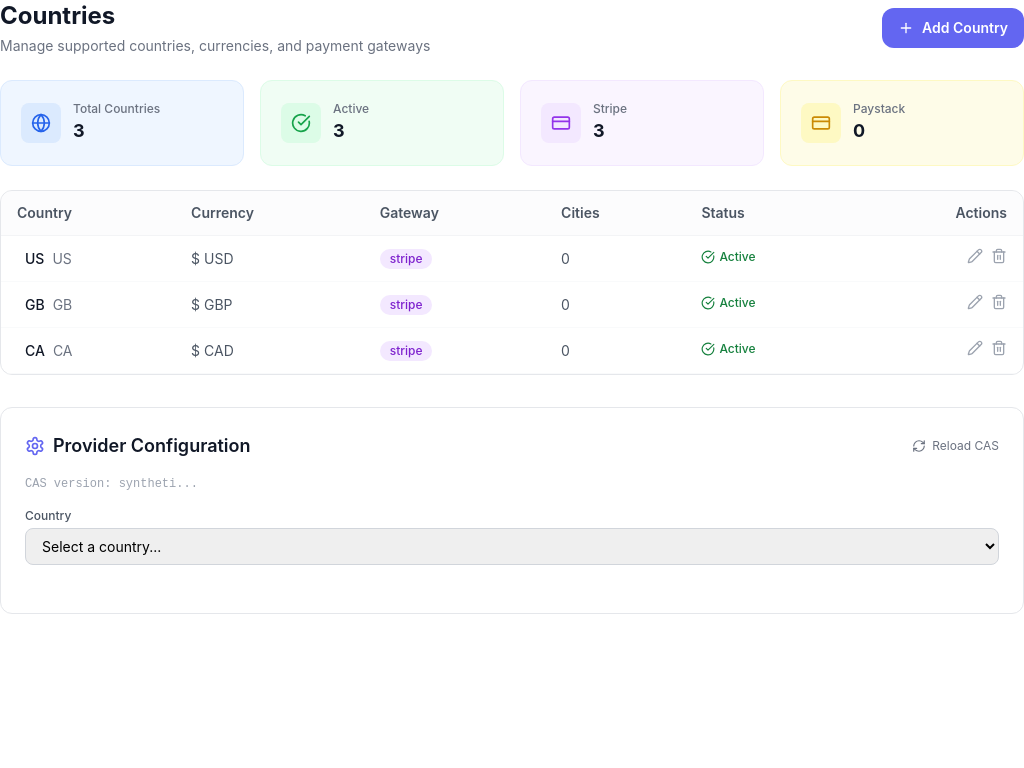
Test: #762 mounted Countries Stripe reference flow › omits untouched absent Stripe refs while saving valid other-provider refs
Select "US — US" in the dropdown named "Provider country" at coordinates (512, 546), box [25,528,999,565]
(page scrolled)
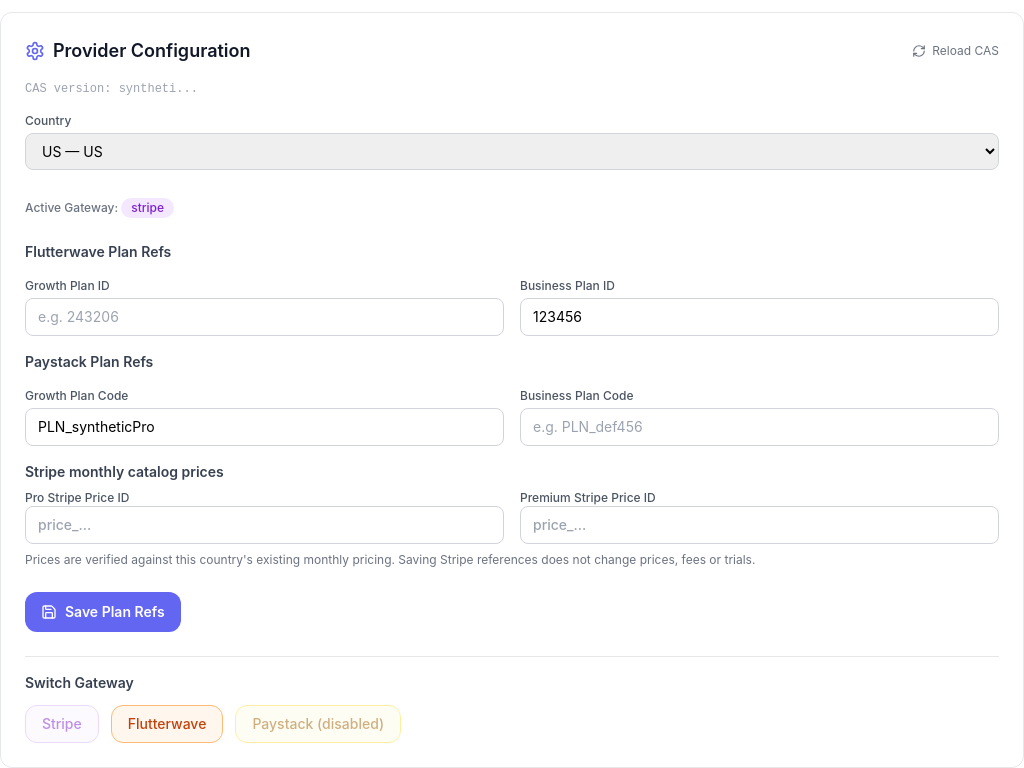
expect the button "Save Plan Refs" is enabled: met
expect the field labelled "Pro Stripe Price ID" is empty: met, box [25,506,504,544]
expect the field labelled "Premium Stripe Price ID" is empty: met, box [520,506,999,544]
Click the button "Save Plan Refs" at coordinates (103, 612), box [25,592,181,632]
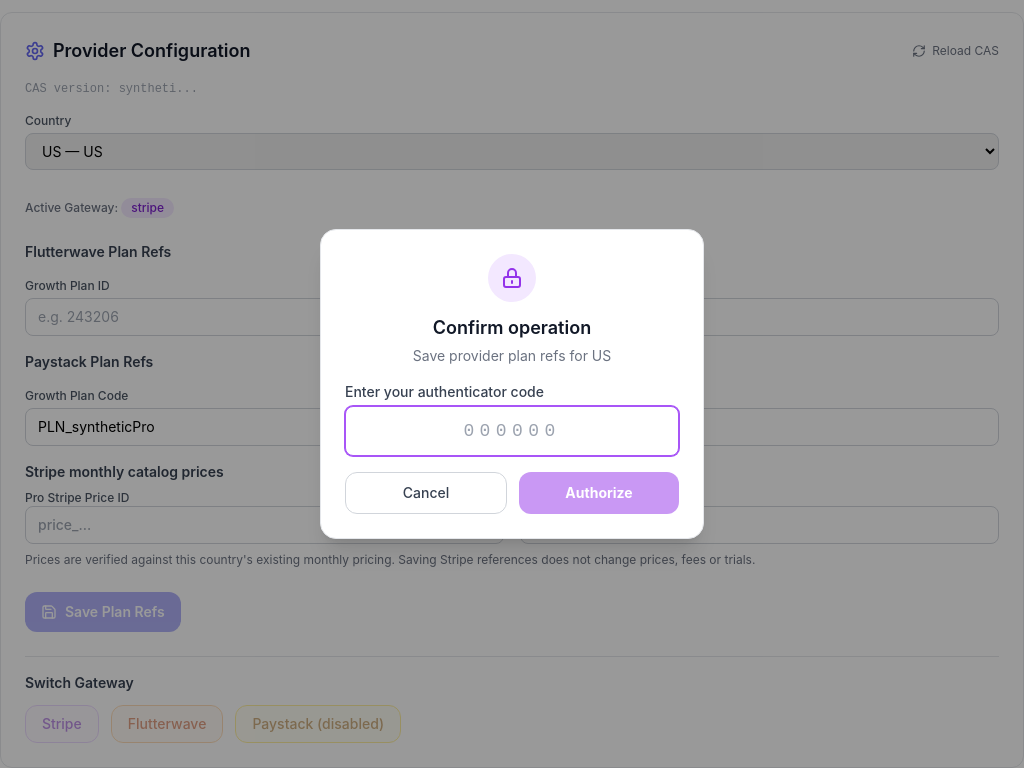
expect the heading "Confirm operation" is shown: met, box [433,317,591,338]
Type "123456" into the field with placeholder "000000" at coordinates (512, 431), box [345,406,679,456]
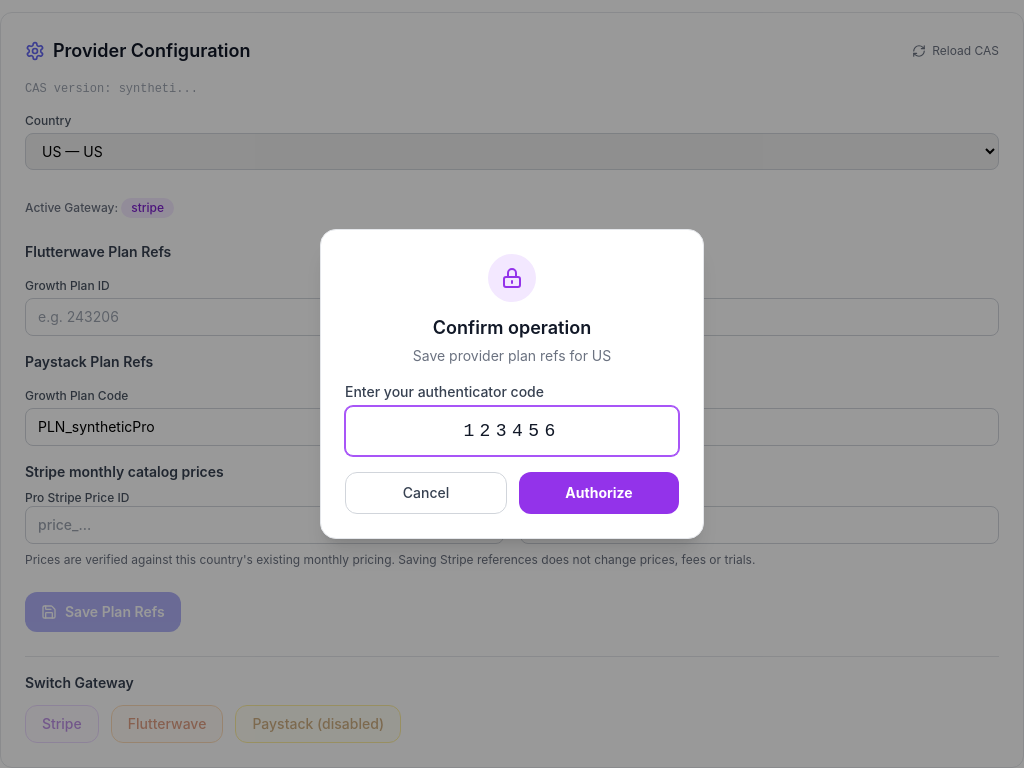
Click the button "Authorize" at coordinates (599, 493), box [519,472,679,514]
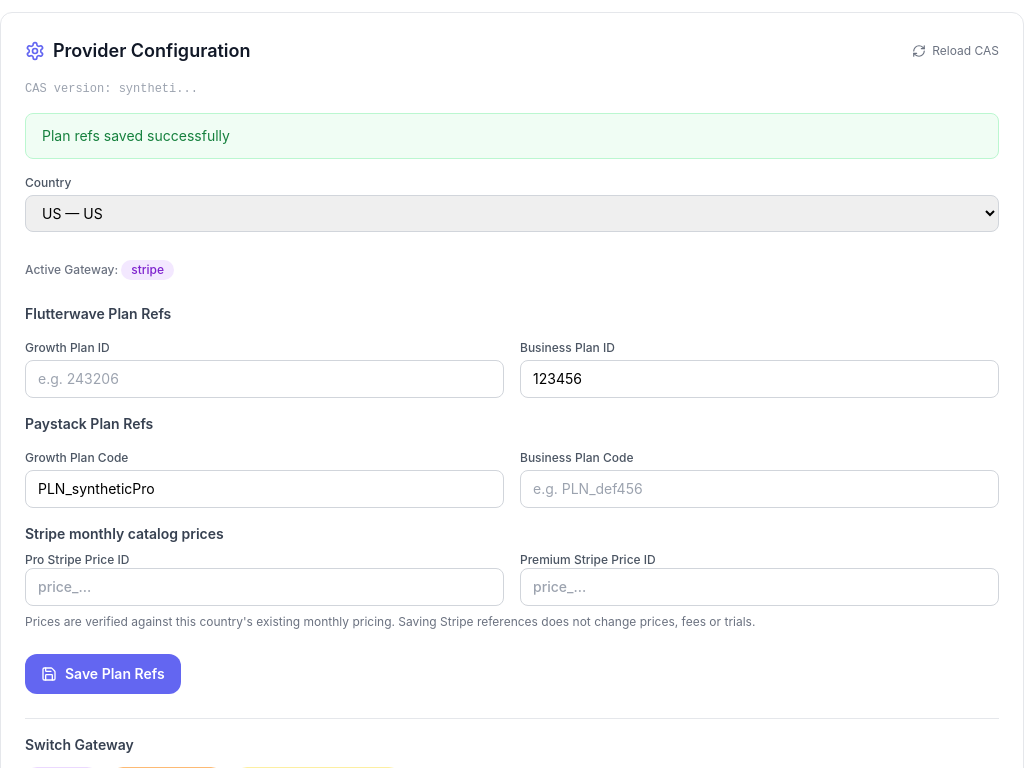
expect the text "Plan refs saved successfully" is shown: met, box [25,113,999,159]
